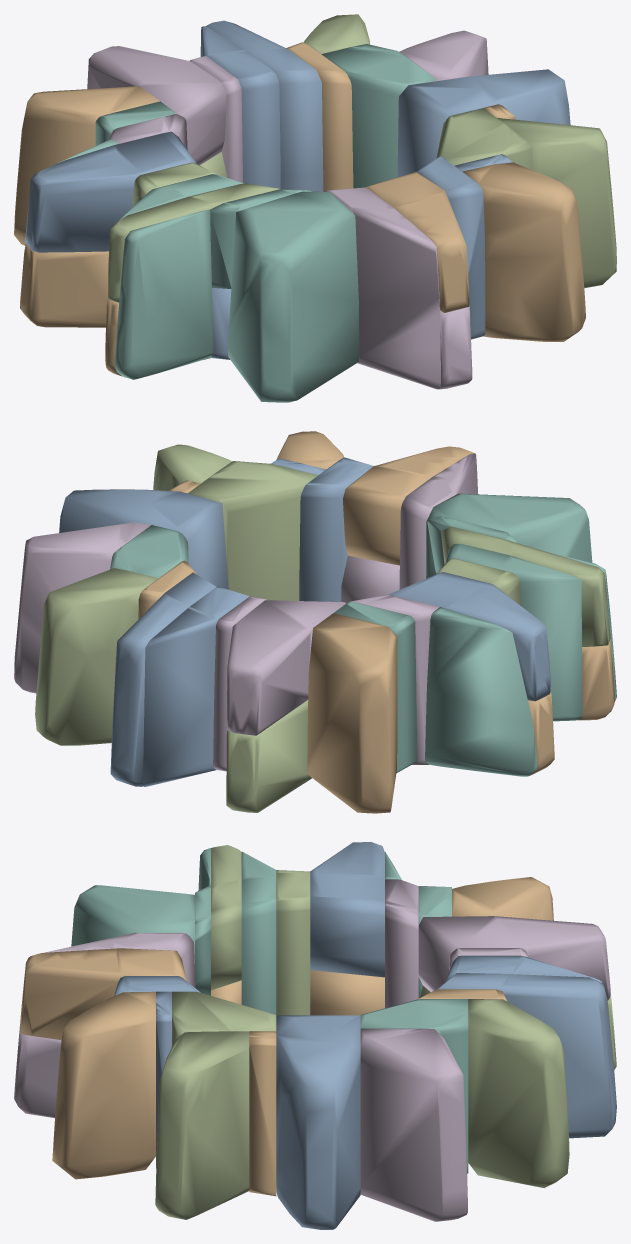
3 views of the same model, one above another, from view 1: azimuth 30°, elevation 25°; view 2: azimuth 150°, elevation 25°; view 3: azimuth 270°, elevation 25° (orthographic).
Size of the model in its own units: 1.9 by 0.5278 by 1.89.
